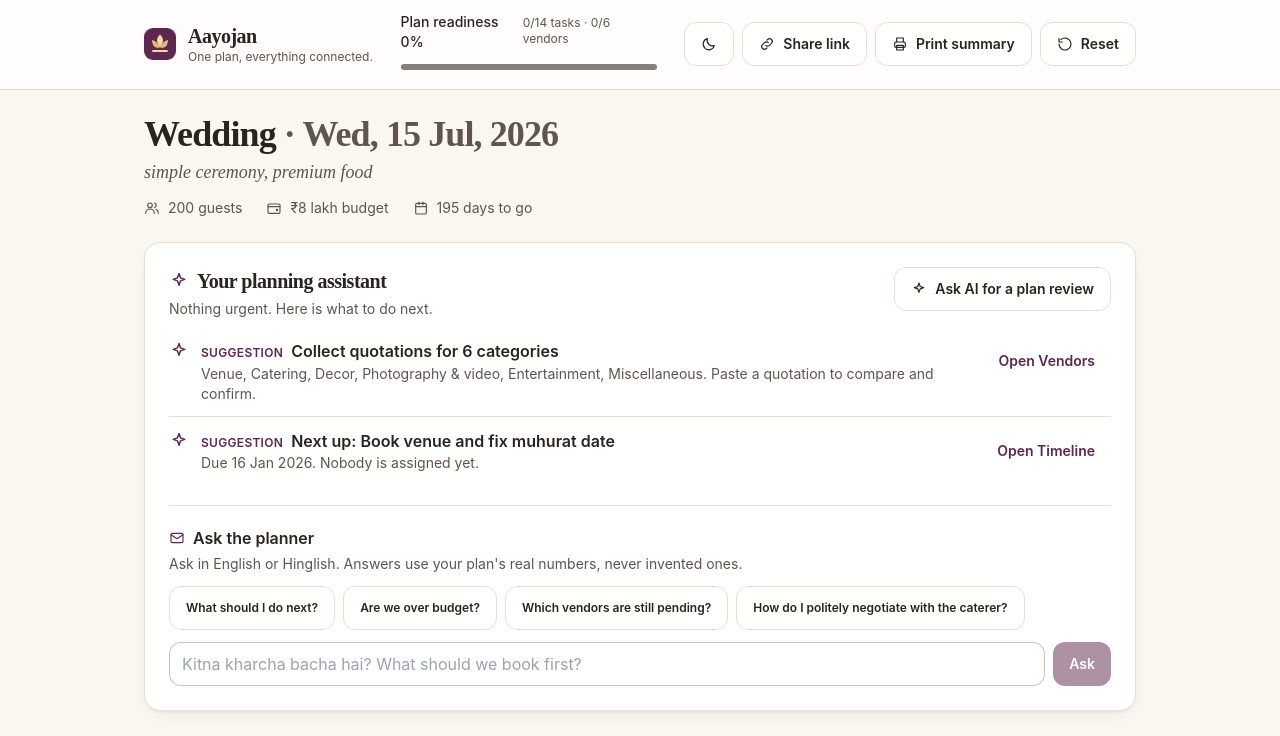
header, notices and empty states › copies the share link when the clipboard works and cancels a reset
The width and height of the screenshot is (1280, 736).
Click the button "Share link".
click(805, 44)  # box 742,22 -> 867,66
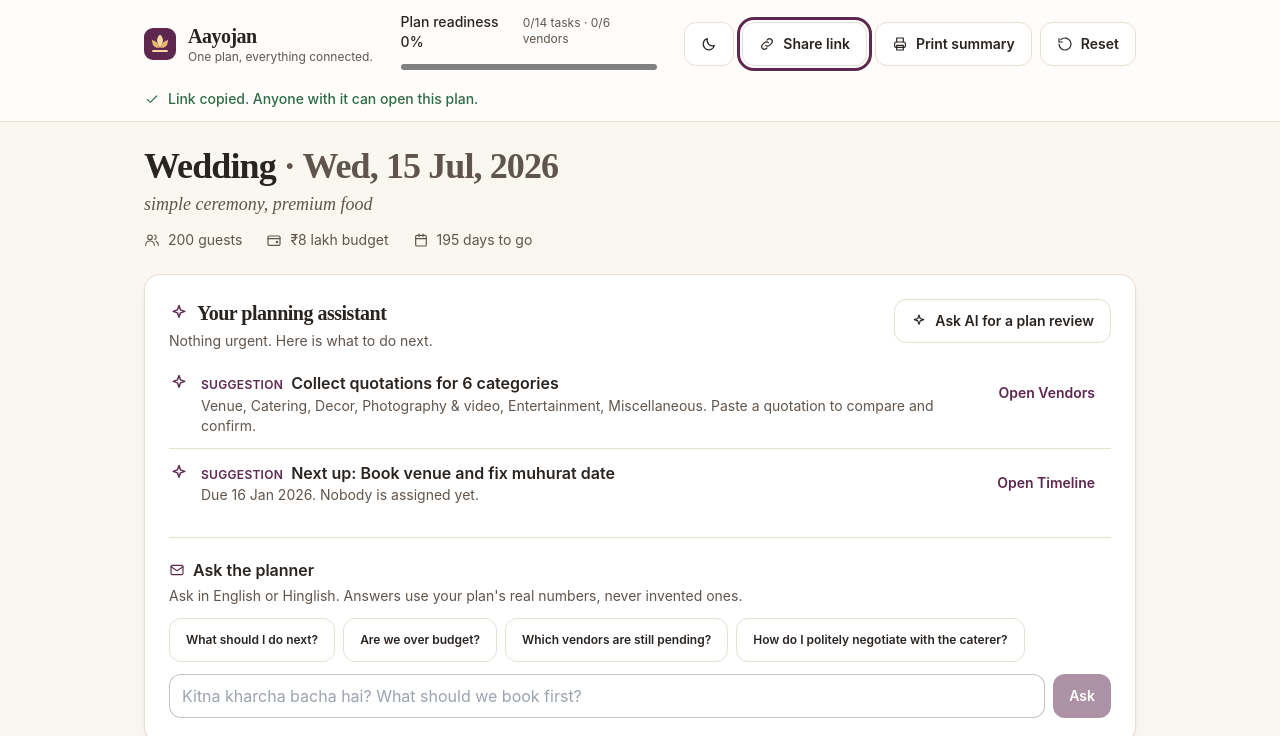
Expected: the text "Link copied. Anyone with it can open this plan." is shown, 144,90 -> 478,107
Click the button "Reset".
click(1088, 44)  # box 1040,22 -> 1136,66
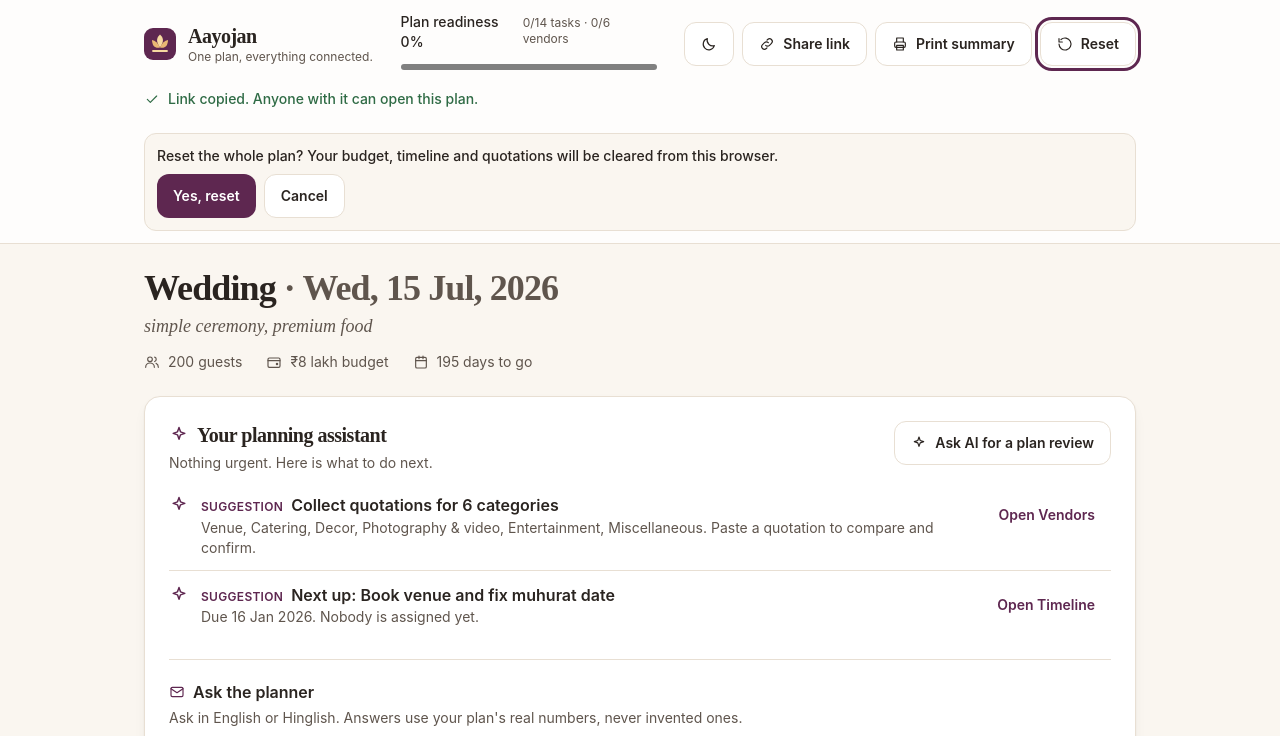
Click the button "Cancel".
click(304, 196)  # box 264,174 -> 345,218
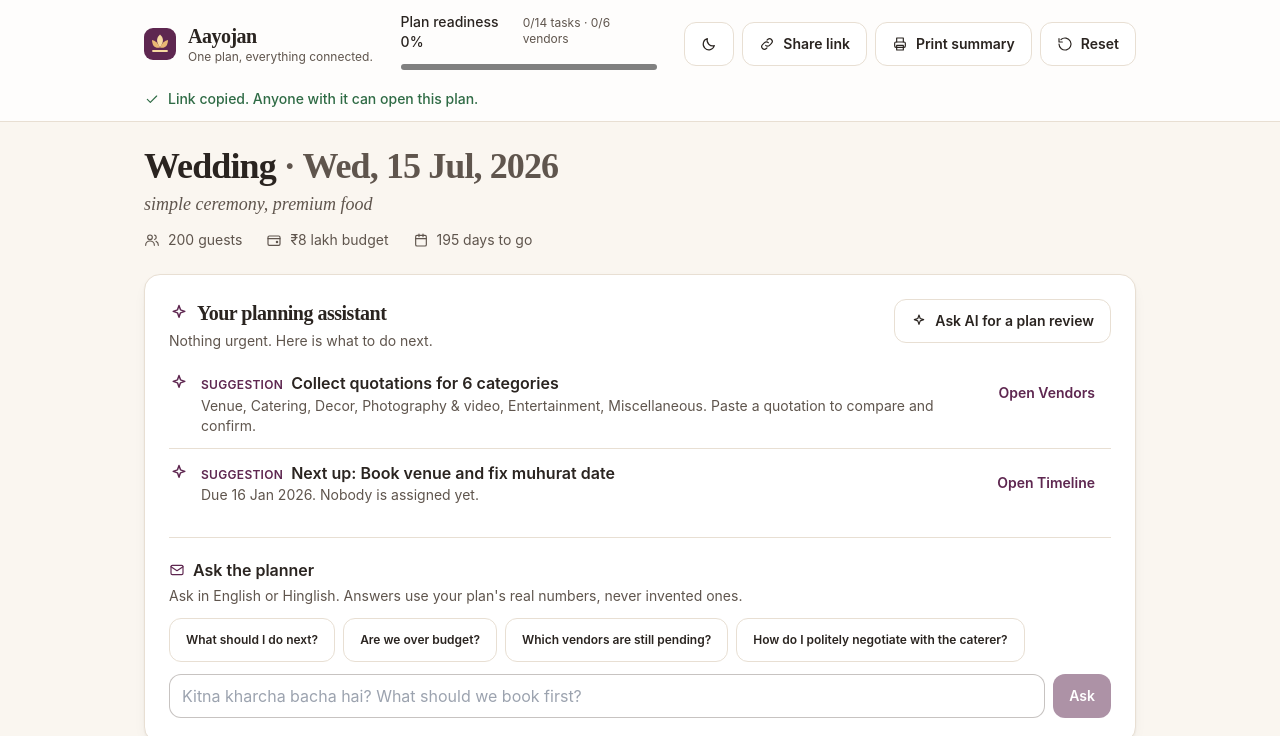
Expected: the text "Reset the whole plan" is gone
